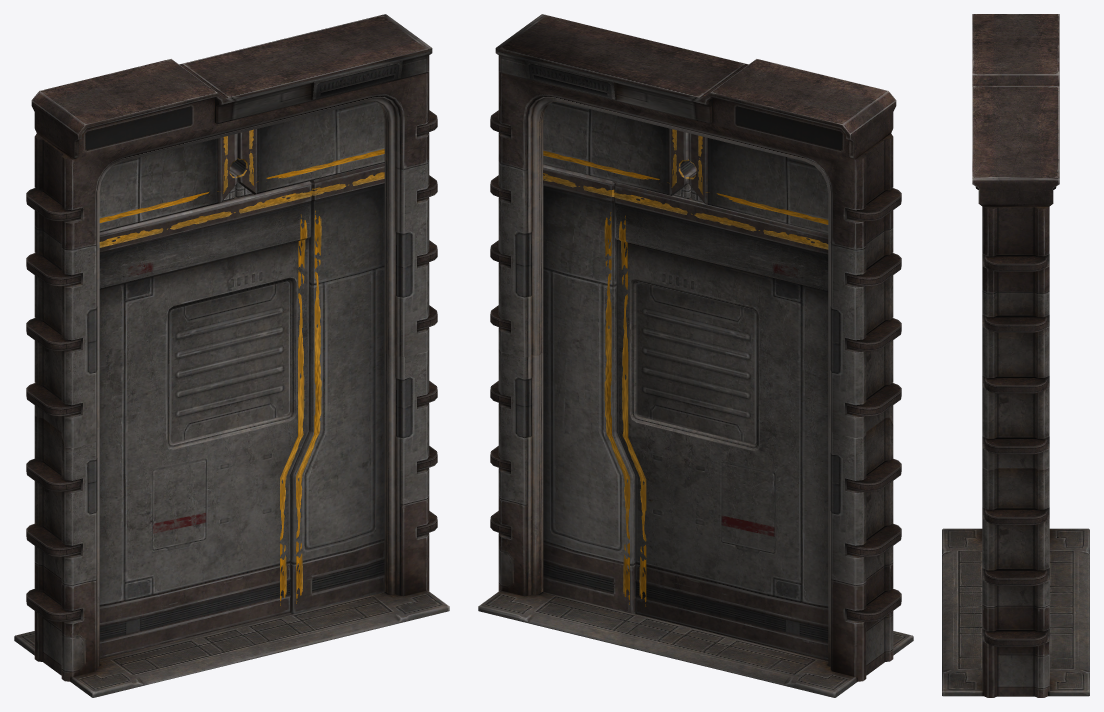
Rendered from 01_01_door_robot_storage.dae.
3 views of the same model, side by side, from view 1: azimuth 30°, elevation 25°; view 2: azimuth 150°, elevation 25°; view 3: azimuth 270°, elevation 25° (orthographic). The views are drawn at different scales.
Visible parts, largest first — view 1: frame, part_large, part_small, part_top_right, part_top_left, part_large_decal, part_small_decal, part_top_right_decal, part_top_left_decal; view 2: frame, part_large, part_small, part_top_right, part_top_left, part_large_decal, part_small_decal, part_top_right_decal, part_top_left_decal; view 3: frame.
Boxes of the visible parts, x1=… form: frame: x1=14, y1=14, x2=449, y2=697; part_large: x1=99, y1=181, x2=311, y2=658; part_small: x1=290, y1=163, x2=384, y2=614; part_top_right: x1=230, y1=102, x2=384, y2=197; part_top_left: x1=99, y1=133, x2=237, y2=232; part_large_decal: x1=99, y1=190, x2=312, y2=605; part_small_decal: x1=296, y1=172, x2=384, y2=603; part_top_right_decal: x1=237, y1=129, x2=384, y2=185; part_top_left_decal: x1=99, y1=136, x2=237, y2=223; frame: x1=478, y1=14, x2=913, y2=697; part_large: x1=614, y1=182, x2=828, y2=660; part_small: x1=543, y1=164, x2=635, y2=614; part_top_right: x1=543, y1=102, x2=696, y2=198; part_top_left: x1=688, y1=133, x2=828, y2=233; part_large_decal: x1=614, y1=192, x2=828, y2=606; part_small_decal: x1=543, y1=173, x2=630, y2=604; part_top_right_decal: x1=543, y1=129, x2=688, y2=187; part_top_left_decal: x1=688, y1=135, x2=828, y2=224; frame: x1=942, y1=14, x2=1089, y2=697.
Bounding box in the file's own units: 329 × 450 × 115.
